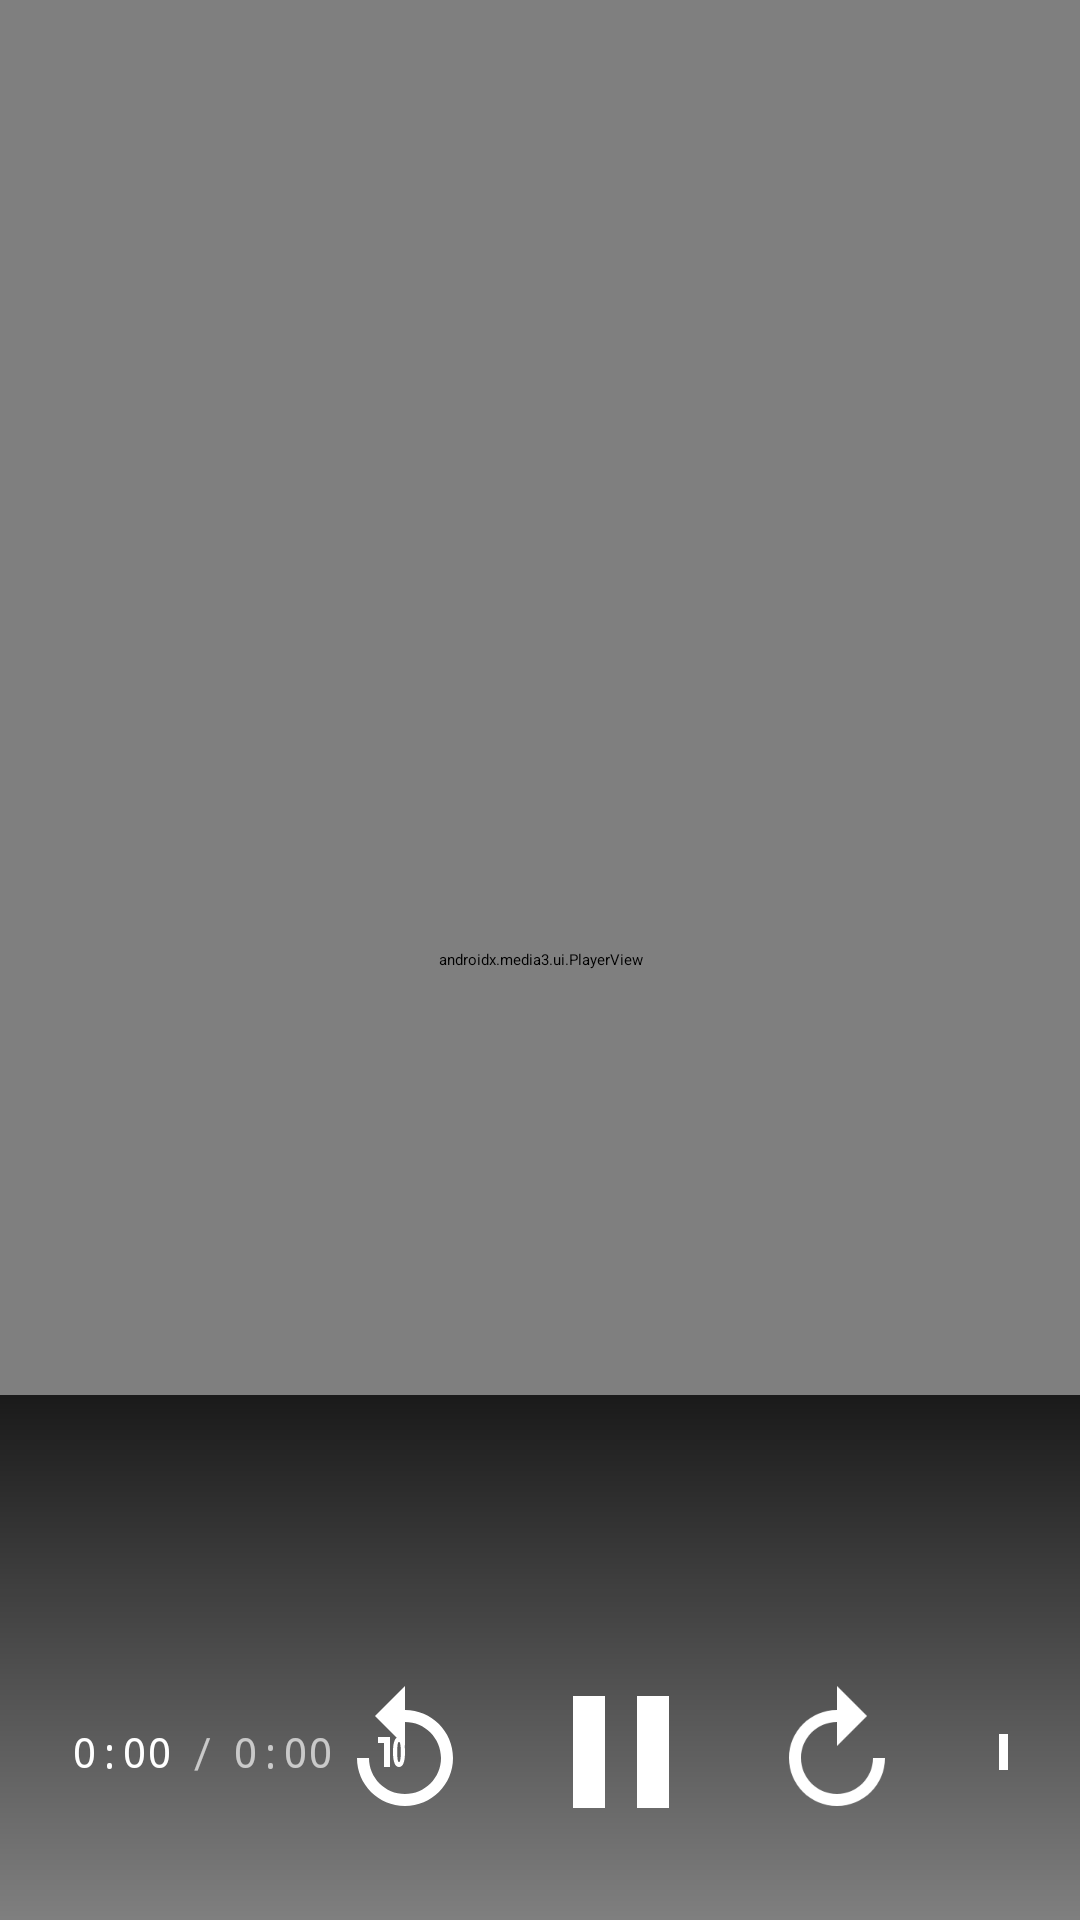

Screen size 1080x1920. Icon name, then its center in pixels as (x=x, y=y):
Forward 10 seconds: (x=837, y=1755)
Rewind 10 seconds: (x=405, y=1755)
